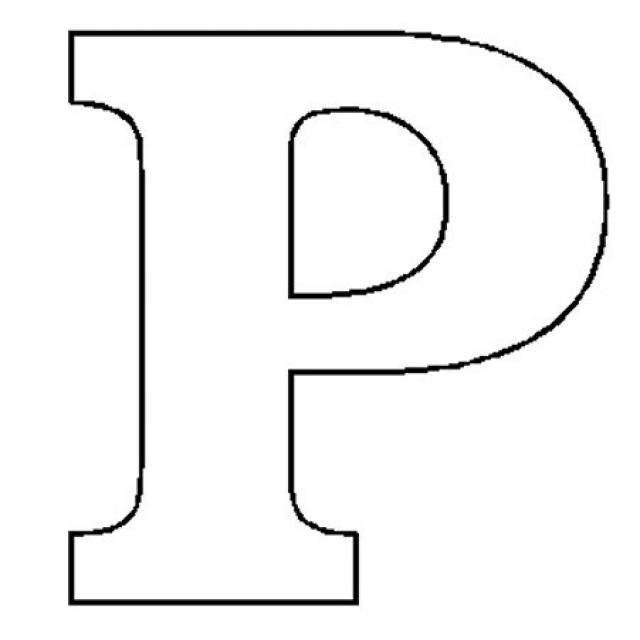P: (39, 0, 628, 639)
